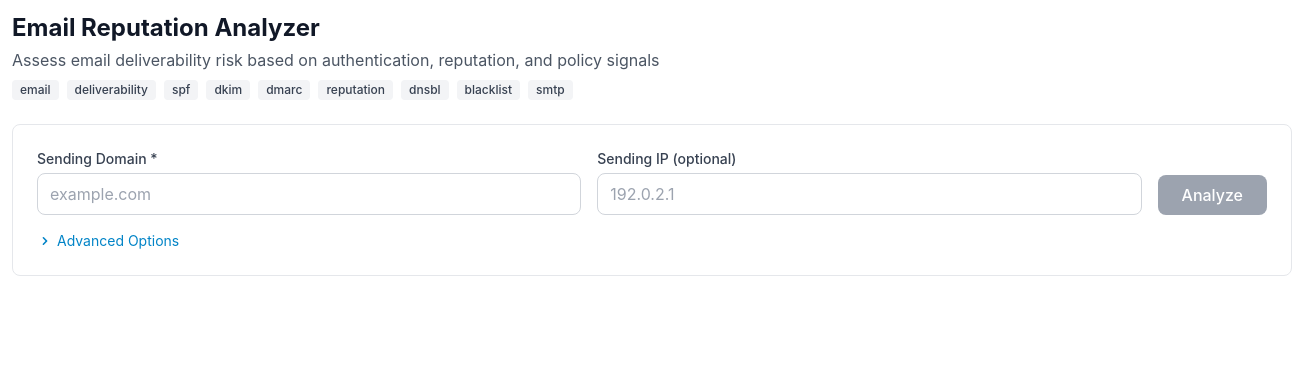
Test: EmailReputationTool › displays error message on API failure
Type "bad-domain" into the field labelled "Sending Domain *" at (309, 194), box x1=37 y1=173 x2=581 y2=215
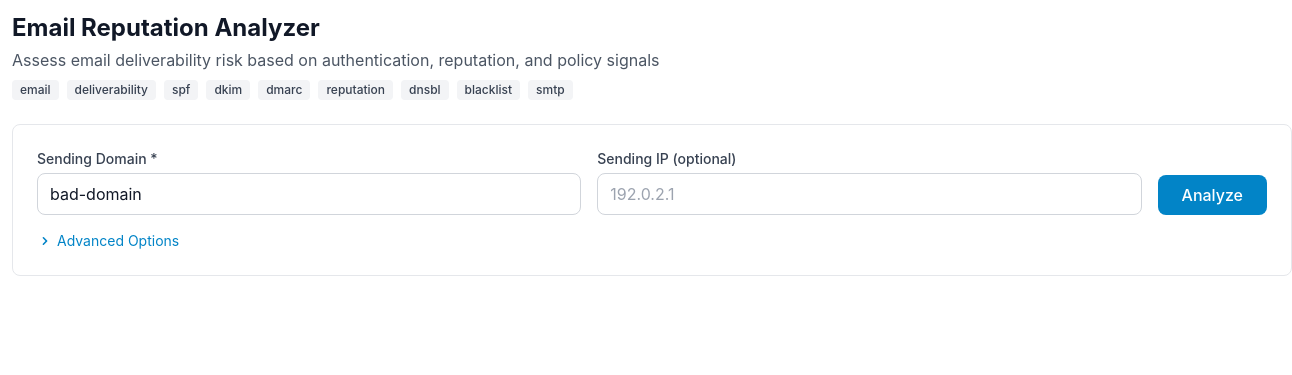
Click the button "Analyze" at (1212, 195), box x1=1158 y1=175 x2=1267 y2=215
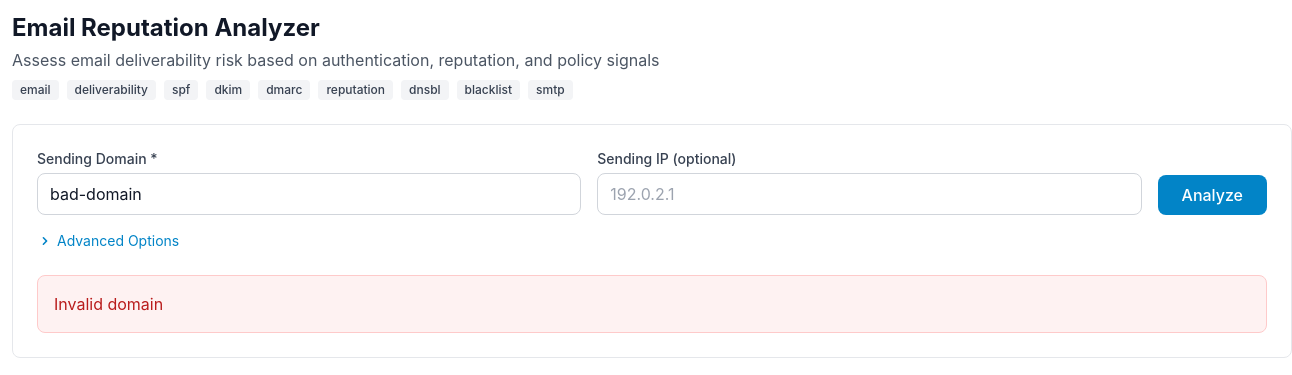
Result: the text "Invalid domain" is shown at x1=37 y1=275 x2=1267 y2=333
